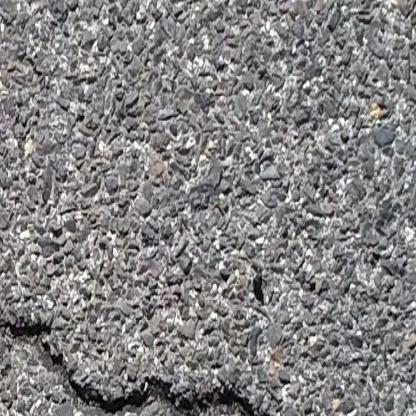Cracks: (0, 307, 287, 416)
